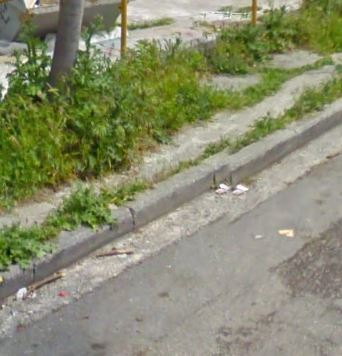trash: (10, 271, 68, 306), (252, 225, 297, 242), (215, 182, 248, 198)
